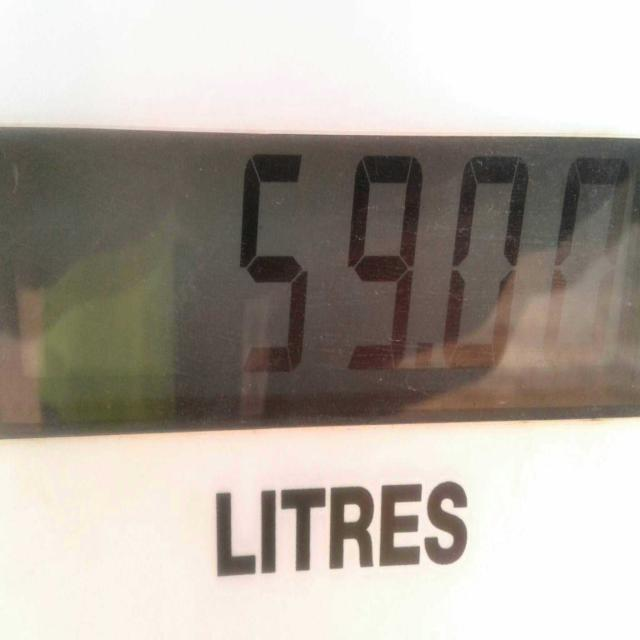.: (405, 326, 448, 405)
0: (220, 138, 335, 392), (444, 148, 534, 396), (540, 150, 632, 382)
9: (339, 146, 431, 398)
